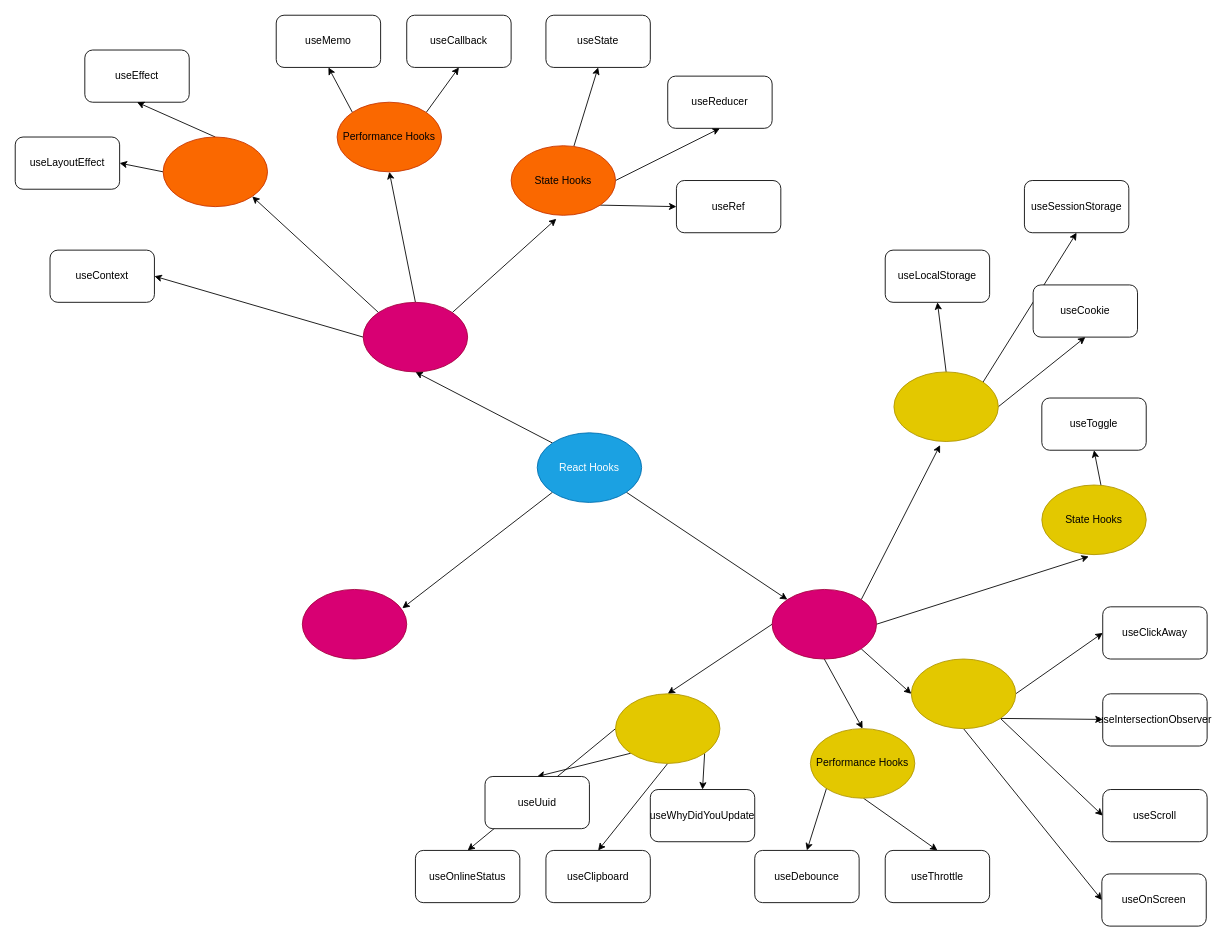
Image size: 1227x941. Some labels were removed from this diagram. The shapes that lost their labels are listed below. From the top down, each one's centre as x and y in pixels, then its label:
At pixel 215 171: "Effect Hooks".
At pixel 415 336: "Built-In Hooks".
At pixel 945 406: "Persistence Hooks".
At pixel 354 624: "Custom Hooks".
At pixel 824 624: "Ready-made Hooks".
At pixel 963 693: "DOM Hooks".
At pixel 667 728: "Util Hooks".
